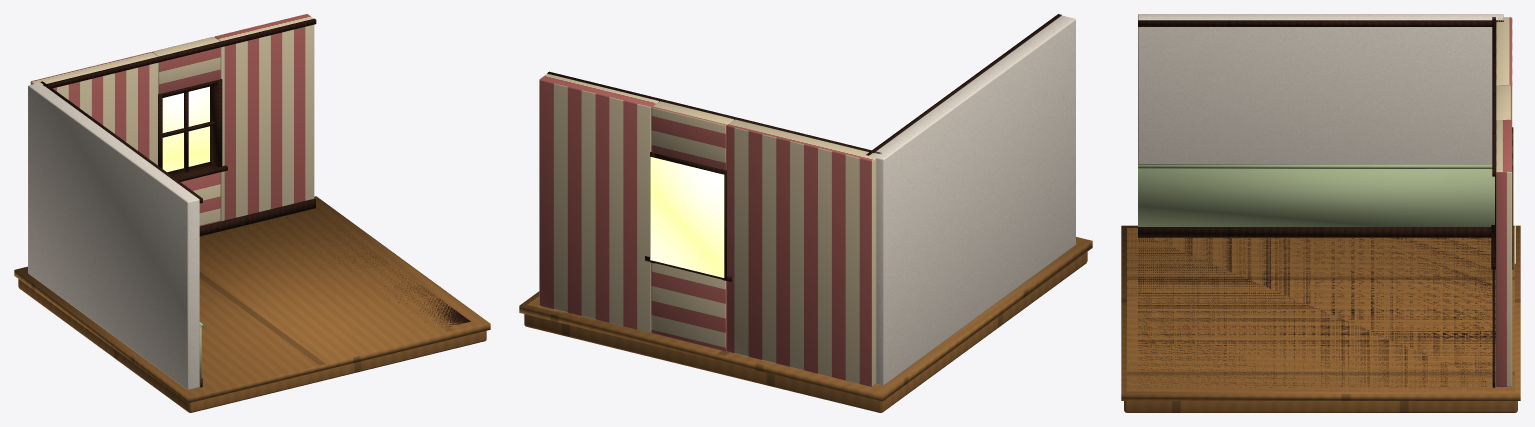
Rendered from shell_vintage.glb.
The picture shows the model from 3 angles, left to right: view 1: azimuth 30°, elevation 25°; view 2: azimuth 150°, elevation 25°; view 3: azimuth 270°, elevation 25°; orthographic projection. The views are drawn at different scales.
Parts seen in each view (by area): view 1: vintage_v2_base_edge, vintage_v2_wall_left, vintage_v2_wall_right, vintage_v2_window_frame, vintage_v2_baseboard, vintage_v2_floor; view 2: vintage_v2_wall_right, vintage_v2_wall_left, vintage_v2_base_edge, vintage_v2_window_frame, vintage_v2_baseboard; view 3: vintage_v2_base_edge, vintage_v2_wall_left, vintage_v2_wainscoting, vintage_v2_floor, vintage_v2_baseboard, vintage_v2_wall_right, vintage_v2_window_frame.
Boxes of the visible parts, x1,y1,x2,y2 form: vintage_v2_base_edge: (14, 196, 490, 412); vintage_v2_wall_left: (28, 83, 199, 389); vintage_v2_wall_right: (30, 14, 314, 226); vintage_v2_window_frame: (158, 79, 227, 181); vintage_v2_baseboard: (40, 18, 316, 387); vintage_v2_floor: (204, 215, 470, 326); vintage_v2_wall_right: (539, 74, 876, 386); vintage_v2_wall_left: (871, 15, 1075, 385); vintage_v2_base_edge: (519, 237, 1092, 412); vintage_v2_window_frame: (645, 152, 731, 281); vintage_v2_baseboard: (547, 14, 1061, 155); vintage_v2_base_edge: (1121, 225, 1520, 412); vintage_v2_wall_left: (1138, 14, 1503, 163); vintage_v2_wainscoting: (1138, 164, 1494, 226); vintage_v2_floor: (1138, 237, 1495, 387); vintage_v2_baseboard: (1138, 17, 1503, 387); vintage_v2_wall_right: (1496, 17, 1512, 386); vintage_v2_window_frame: (1491, 127, 1515, 269).
Bounding box in the file's own units: 4.36 × 2.85 × 4.36.
7 materials, 5 textured.
